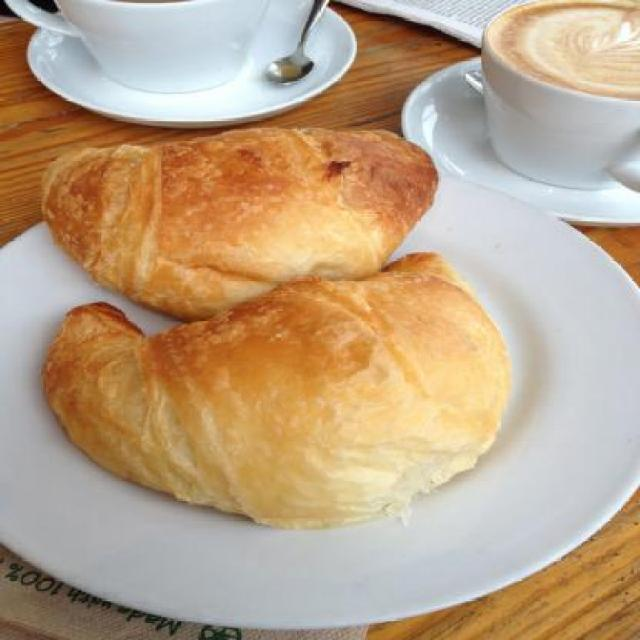Croissant: (38, 252, 510, 530), (38, 124, 440, 321), (37, 130, 440, 318)
